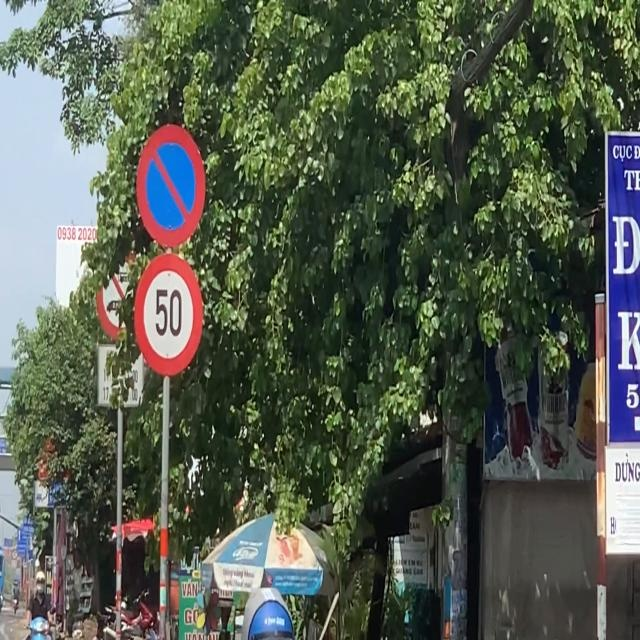bien_cam: (136, 123, 206, 248), (134, 253, 203, 376)
